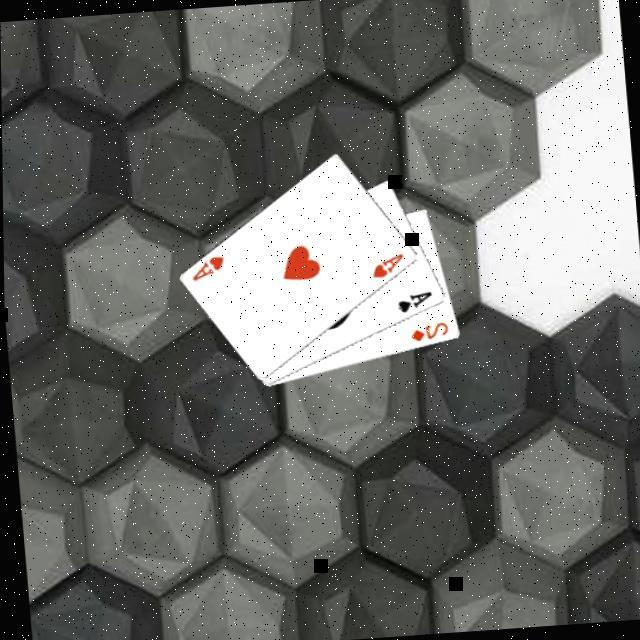2D: (404, 318, 448, 343)
AH: (365, 248, 405, 280), (184, 251, 224, 283)
AS: (391, 288, 433, 316)
